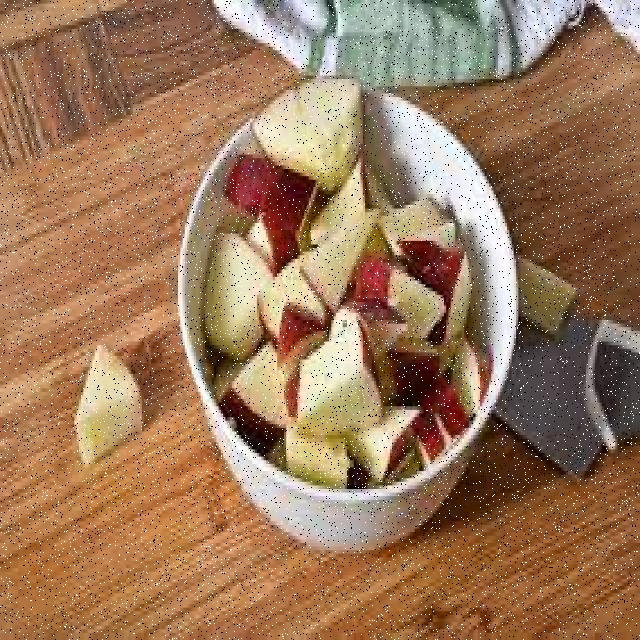Apple: (253, 80, 363, 188), (299, 323, 379, 439), (204, 226, 274, 354), (73, 340, 141, 468), (298, 207, 375, 308), (376, 184, 454, 282), (278, 409, 357, 497), (355, 397, 425, 482), (230, 343, 290, 439), (417, 249, 476, 342), (386, 259, 440, 348)
